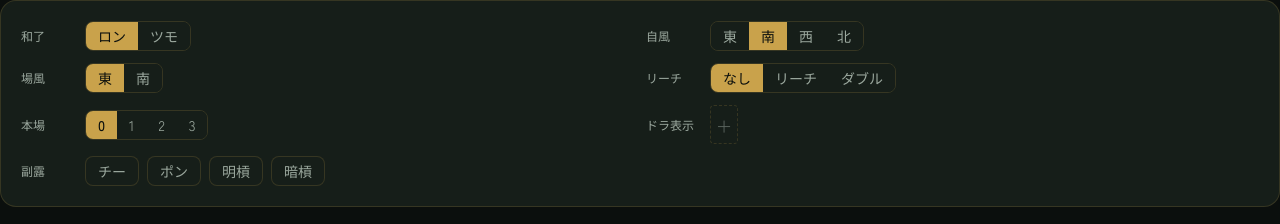
Scenario: ContextForm › 副露モードボタンはトグルでヒントを表示する
expect the text "下の牌をクリックすると副露が追加されます" is not shown: met
Click the button "ポン".
click(174, 171)  # box [147,156,201,186]
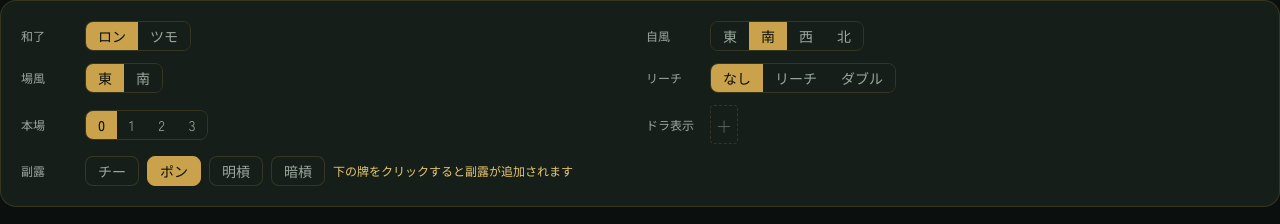
expect the text "下の牌をクリックすると副露が追加されます" is shown: met, box [333,163,573,179]
Click the button "ポン".
click(174, 171)  # box [147,156,201,186]
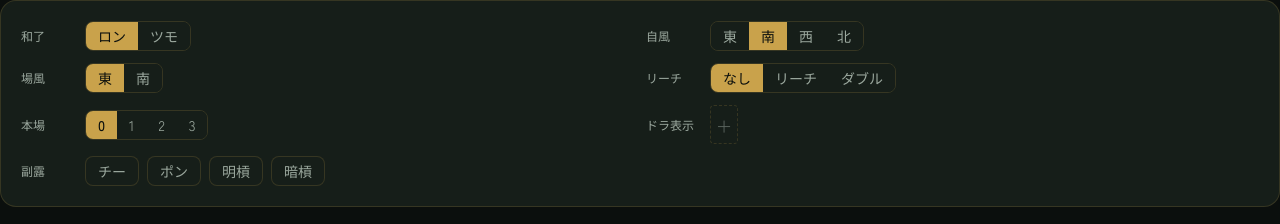
expect the text "下の牌をクリックすると副露が追加されます" is gone: met
